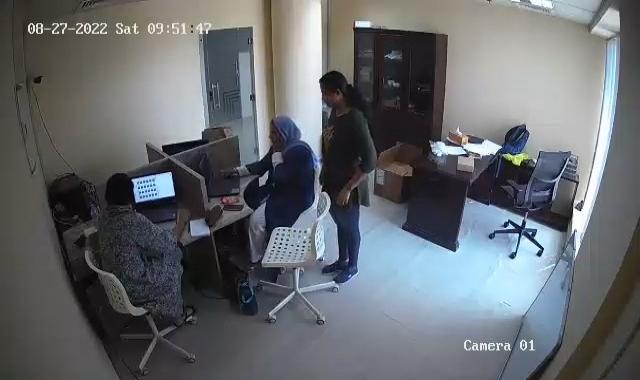no_hairnet: (318, 70, 352, 107), (102, 170, 136, 202), (272, 113, 300, 148)
